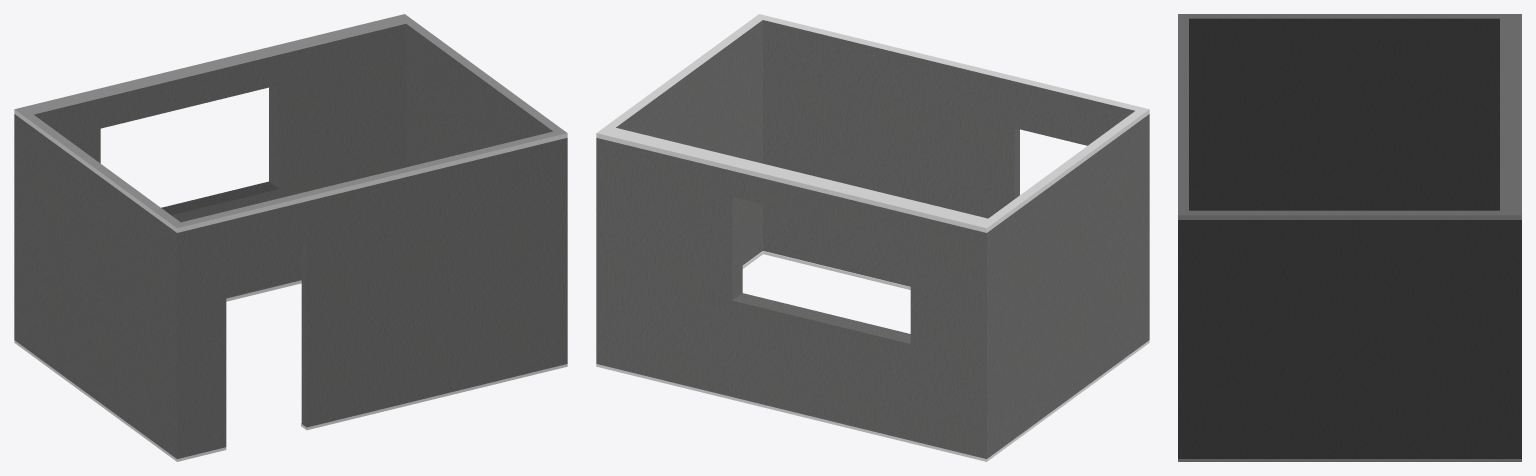
File: FP313:StandardWallSize_011_3966a8de.obj
The picture shows the model from 3 angles, left to right: view 1: azimuth 30°, elevation 25°; view 2: azimuth 150°, elevation 25°; view 3: azimuth 270°, elevation 25°; orthographic projection. The views are drawn at different scales.
Parts seen in each view (by area): view 1: FP313:StandardWallSize.011_3966a8de; view 2: FP313:StandardWallSize.011_3966a8de; view 3: FP313:StandardWallSize.011_3966a8de.
Boxes of the visible parts, bbox=[...] form: FP313:StandardWallSize.011_3966a8de: bbox=[14, 14, 567, 461]; FP313:StandardWallSize.011_3966a8de: bbox=[596, 14, 1149, 461]; FP313:StandardWallSize.011_3966a8de: bbox=[1178, 14, 1521, 461].
Bounding box in the file's own units: 4.37 × 2.5 × 3.16.
